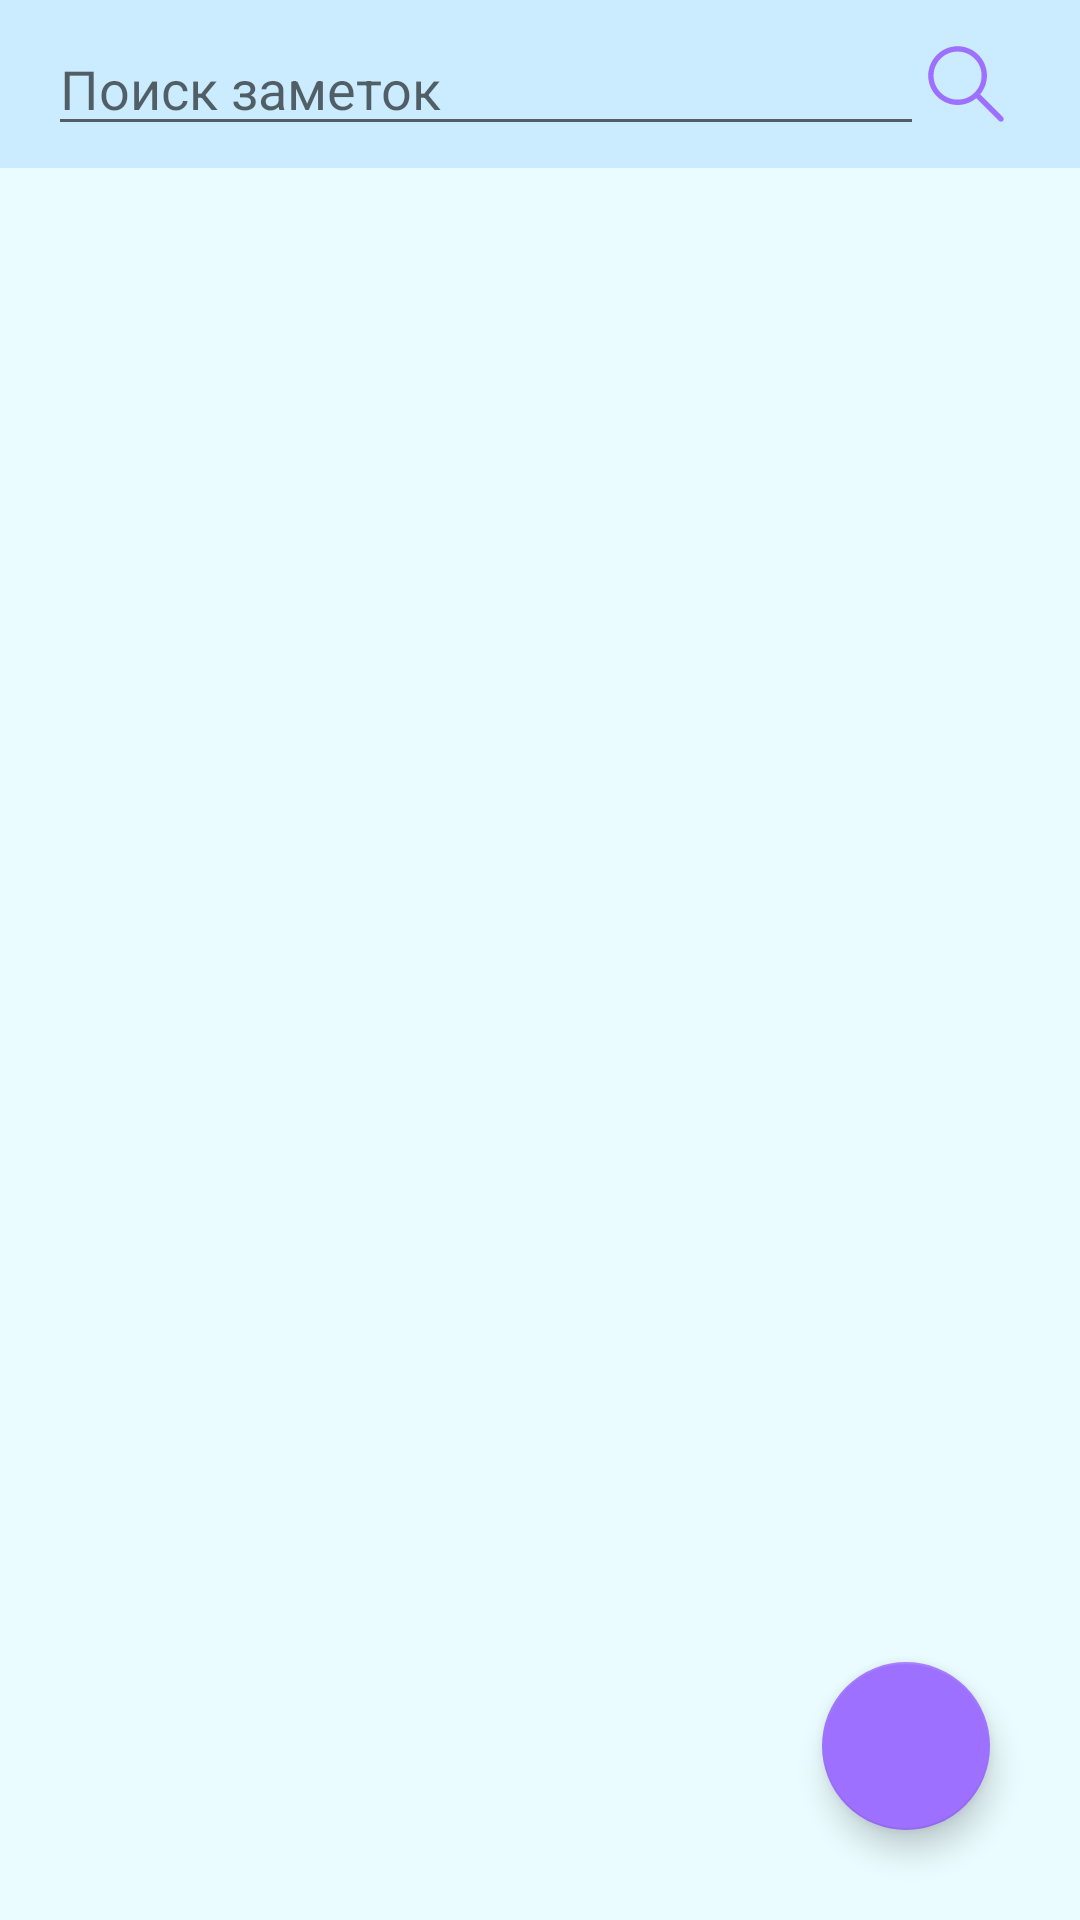

Icons on this 1080*1920 Android screen, each with the point to tap as point (x, y):
search: point (966, 84)
